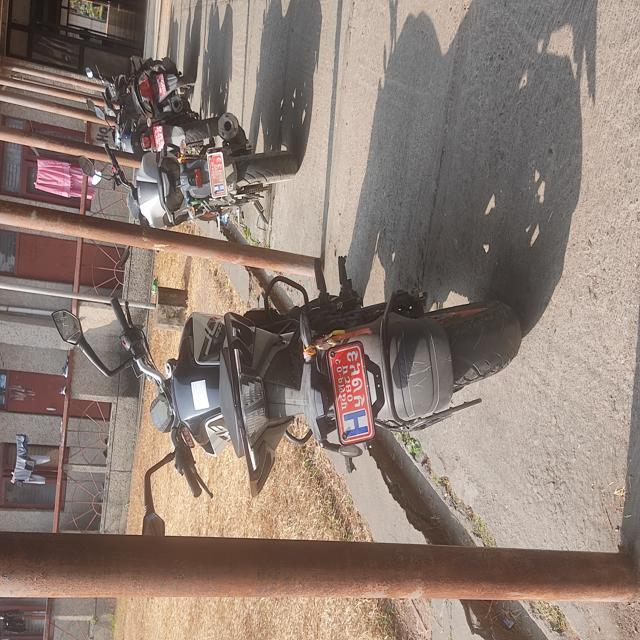license_plate: (320, 338, 379, 457)
